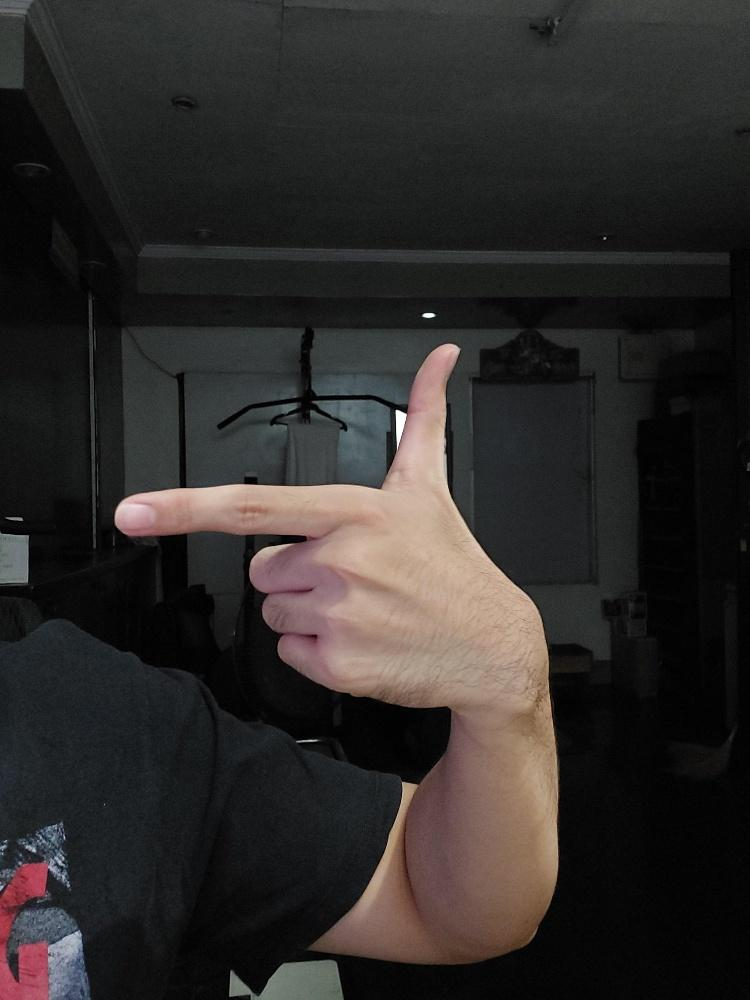g: (112, 340, 548, 707)
